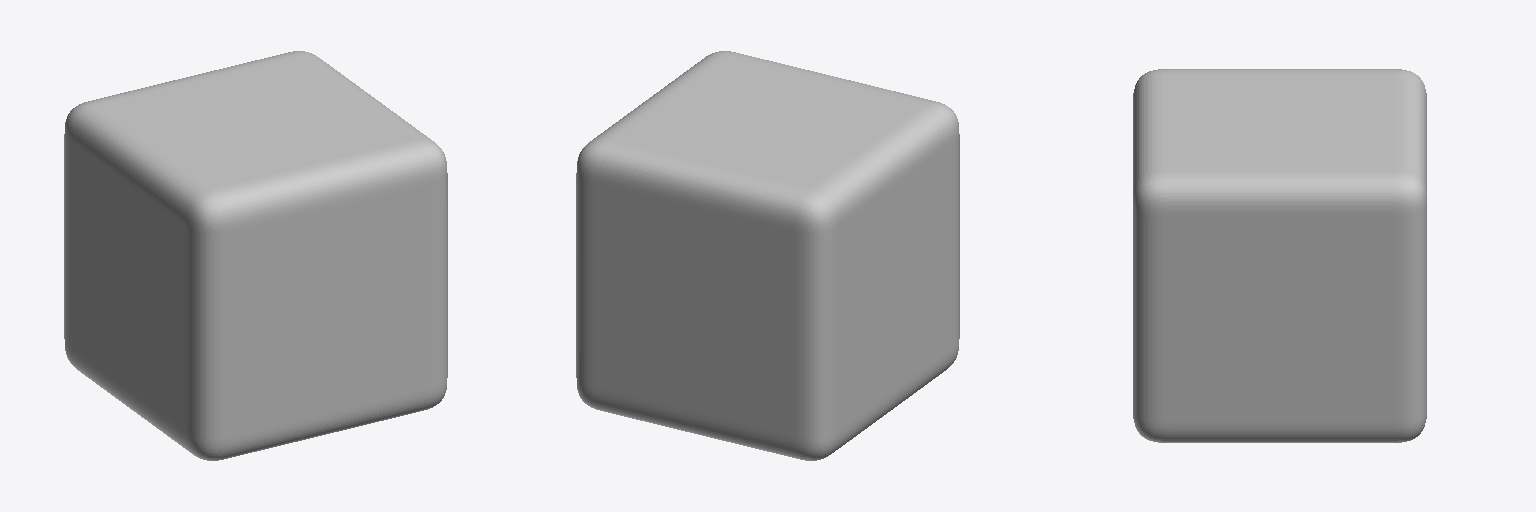
Rendered from smooth_green_cube.obj.
The picture shows the model from 3 angles: view 1: azimuth 30°, elevation 25°; view 2: azimuth 150°, elevation 25°; view 3: azimuth 270°, elevation 25°; orthographic projection.
Size of the model in its own units: 1 by 1 by 1.